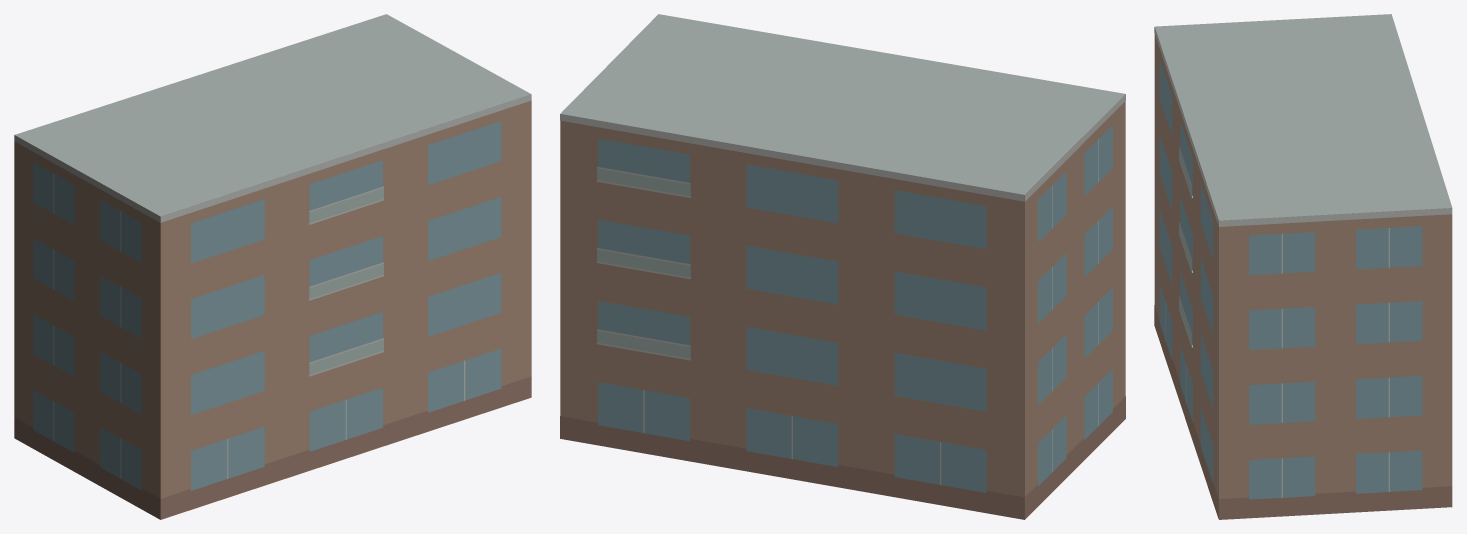
Rendered from survey-upis-32542795.glb.
The picture shows the model from 3 angles, left to right: view 1: azimuth 30°, elevation 25°; view 2: azimuth 150°, elevation 25°; view 3: azimuth 270°, elevation 25°; orthographic projection. The views are drawn at different scales.
Visible parts, largest first — view 1: survey-upis-32542795.tmp; view 2: survey-upis-32542795.tmp; view 3: survey-upis-32542795.tmp.
Part boxes in pixels (x1,y1,x2,y2): survey-upis-32542795.tmp: (14,14,531,519); survey-upis-32542795.tmp: (560,14,1125,519); survey-upis-32542795.tmp: (1154,14,1452,519).
Size of the model in its own units: 17.35 by 11.7 by 10.57.
